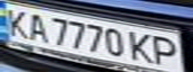0: (103, 26, 130, 59)
7: (45, 16, 72, 47), (81, 22, 106, 54), (66, 19, 87, 51)
A: (21, 11, 51, 43)
K: (0, 4, 33, 38), (127, 30, 157, 65)
P: (148, 34, 184, 69)
